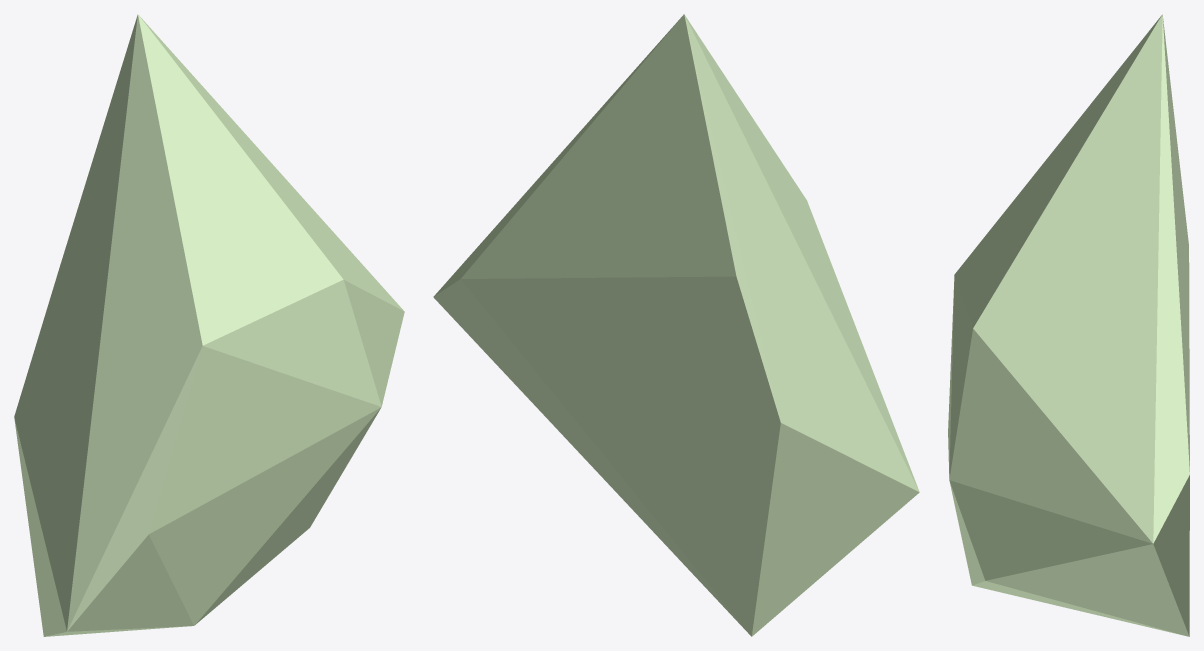
File: kuka_URDF_robot_base_coll_3.dae
3 views of the same model, side by side, from view 1: azimuth 30°, elevation 25°; view 2: azimuth 150°, elevation 25°; view 3: azimuth 270°, elevation 25° (orthographic). The views are drawn at different scales.
Parts seen in each view (by area): view 1: Node_0000020FCC592640; view 2: Node_0000020FCC592640; view 3: Node_0000020FCC592640.
Boxes of the visible parts, bbox=[...] form: Node_0000020FCC592640: bbox=[14, 14, 404, 636]; Node_0000020FCC592640: bbox=[433, 14, 919, 636]; Node_0000020FCC592640: bbox=[948, 14, 1189, 636].
Bounding box in the file's own units: 0.0294 × 0.041 × 0.0135.
